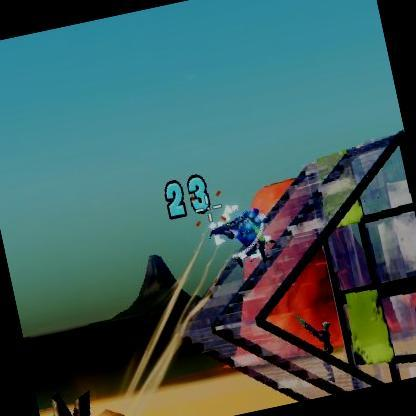person: (310, 316, 341, 384), (228, 207, 264, 260)
